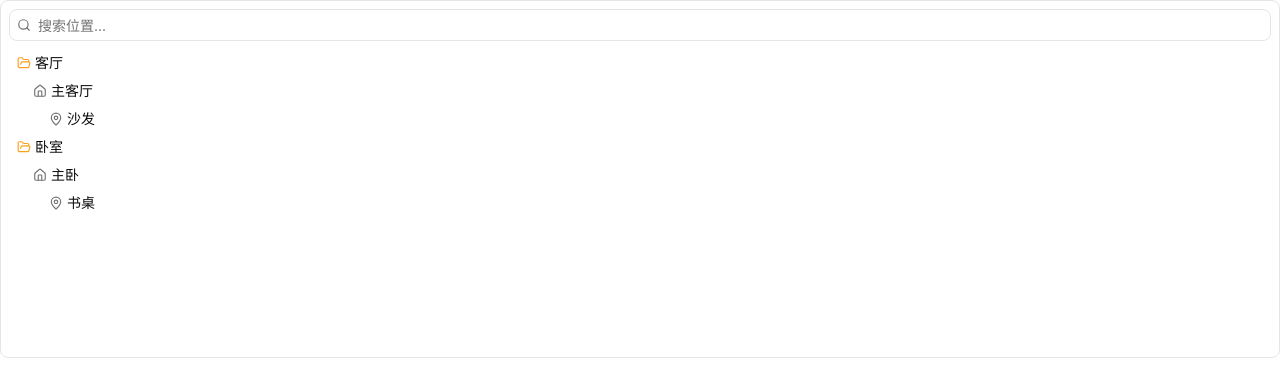
Test case: LocationTreeSelect › 搜索功能 › 应该支持搜索区域
Type "客厅" into the field with placeholder "搜索位置..." at [640, 25], box [9, 9, 1271, 41]
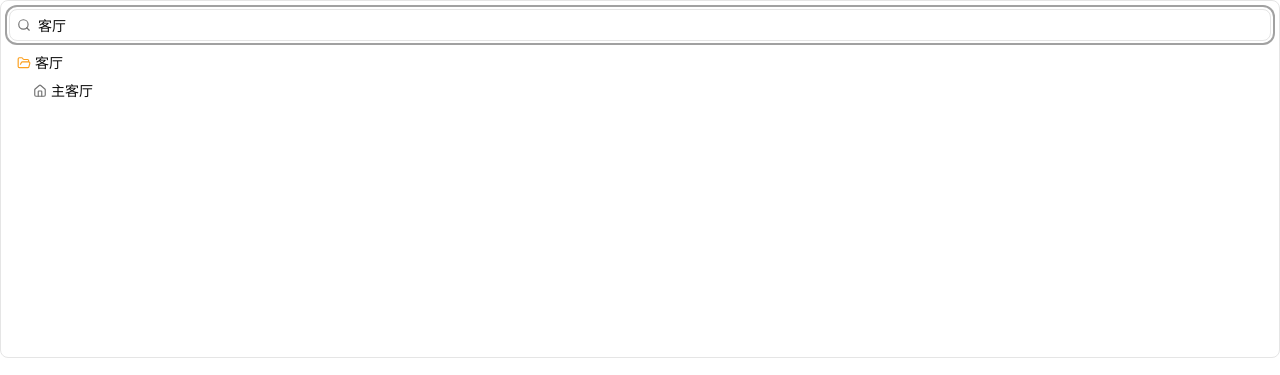
Expected: the text "客厅" is shown, [35, 54, 63, 71]
Now the text "卧室" is gone
